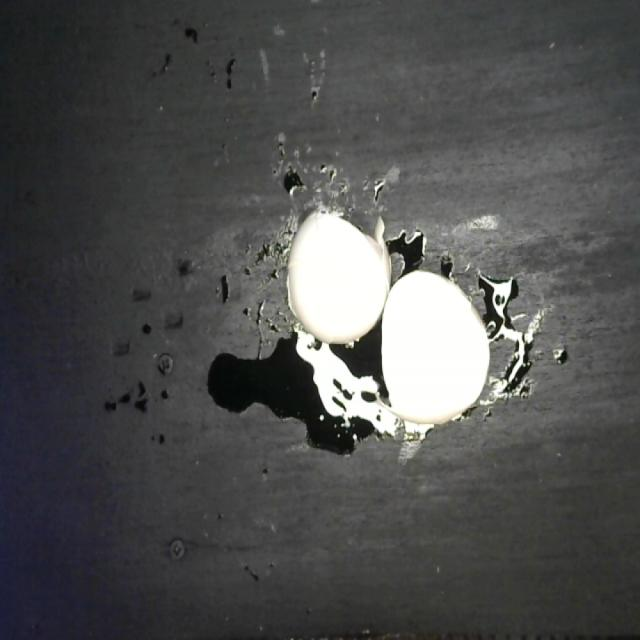biodegradable: (274, 195, 496, 436)
